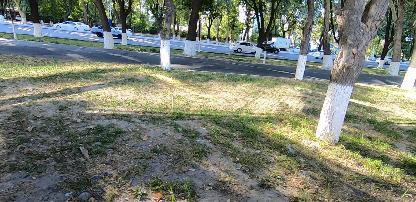car: (229, 40, 264, 56)
tree: (316, 0, 399, 147), (292, 0, 317, 81), (252, 0, 281, 60), (157, 0, 178, 75), (90, 0, 117, 52), (181, 2, 205, 60), (389, 0, 405, 81), (25, 0, 47, 44)
